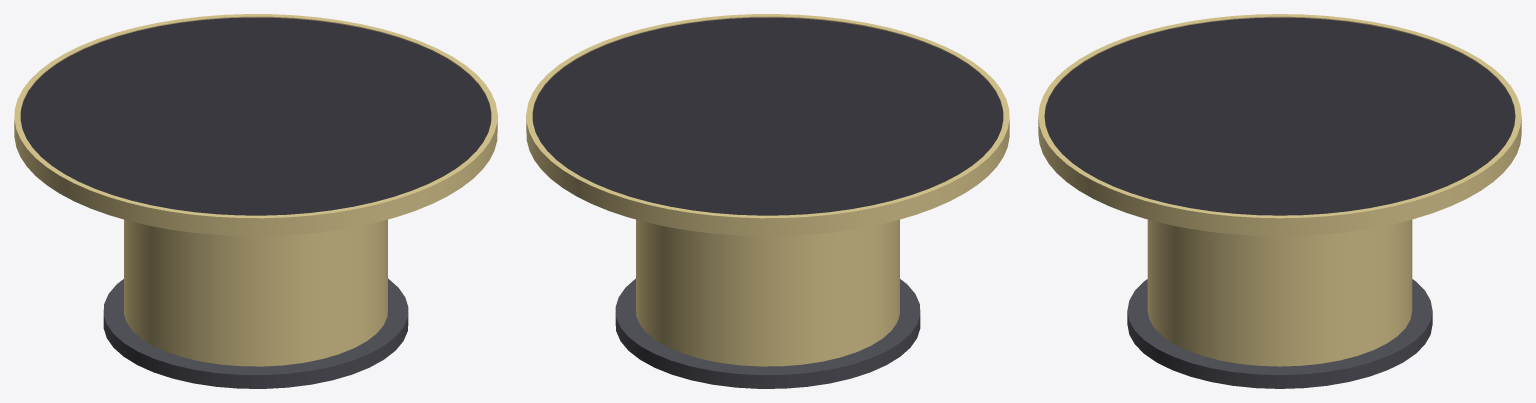
Rendered from bb_set_lowtable.fbx.
3 renders of one model, left to right at view 1: azimuth 30°, elevation 25°; view 2: azimuth 150°, elevation 25°; view 3: azimuth 270°, elevation 25°, orthographic.
Visible parts, largest first — view 1: bb_set_lowtable; view 2: bb_set_lowtable; view 3: bb_set_lowtable.
Part boxes in pixels (x1=…): bb_set_lowtable: x1=14, y1=14, x2=497, y2=388; bb_set_lowtable: x1=526, y1=14, x2=1009, y2=388; bb_set_lowtable: x1=1038, y1=14, x2=1521, y2=388.
Size of the model in its own units: 0.95 by 0.452 by 0.95.
